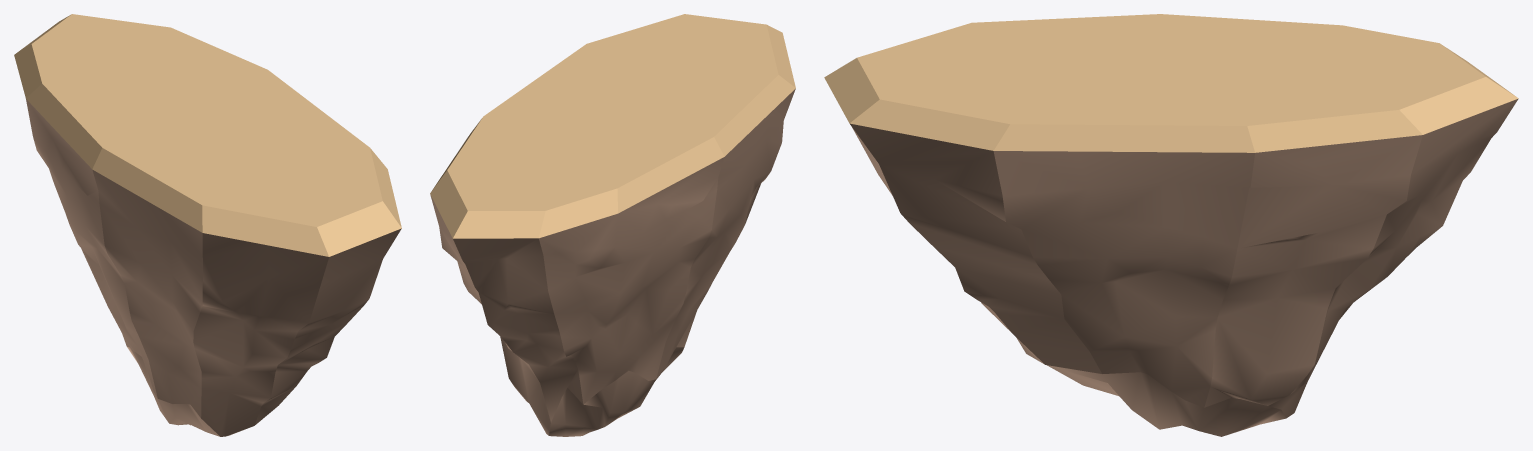
The model's file is tile_2_4.fbx.
3 views of the same model, side by side, from view 1: azimuth 30°, elevation 25°; view 2: azimuth 150°, elevation 25°; view 3: azimuth 270°, elevation 25° (orthographic). The views are drawn at different scales.
Parts seen in each view (by area): view 1: Jump_Map_Tiles_4; view 2: Jump_Map_Tiles_4; view 3: Jump_Map_Tiles_4.
Part boxes in pixels (<box>): Jump_Map_Tiles_4: <box>14,14,401,436</box>; Jump_Map_Tiles_4: <box>430,14,795,436</box>; Jump_Map_Tiles_4: <box>824,14,1518,436</box>.
Bounding box in the file's own units: 4 × 5.41 × 9.48.
